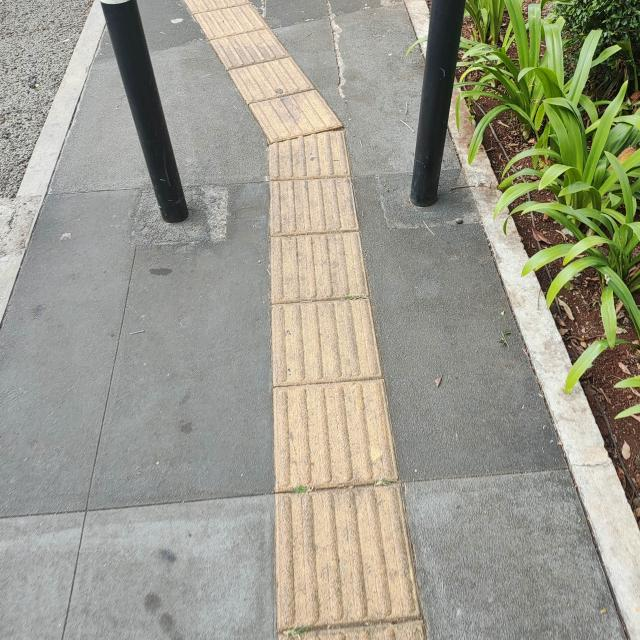lurus: (252, 144, 408, 640)
